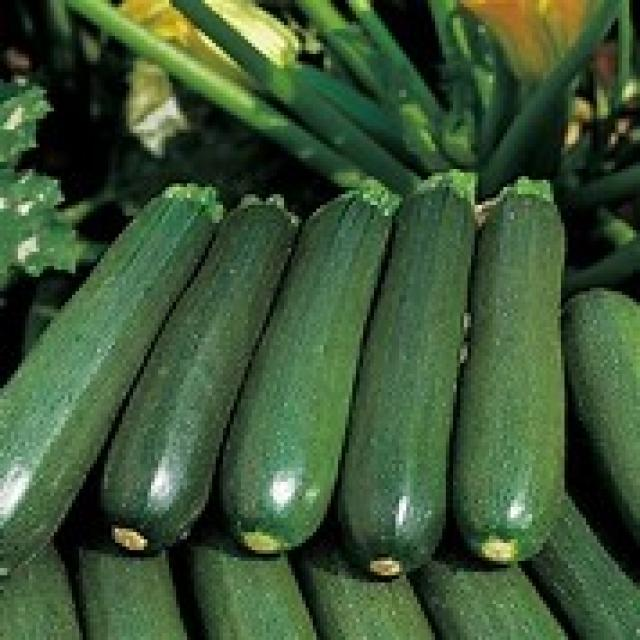Zucchini: (466, 172, 567, 573)
